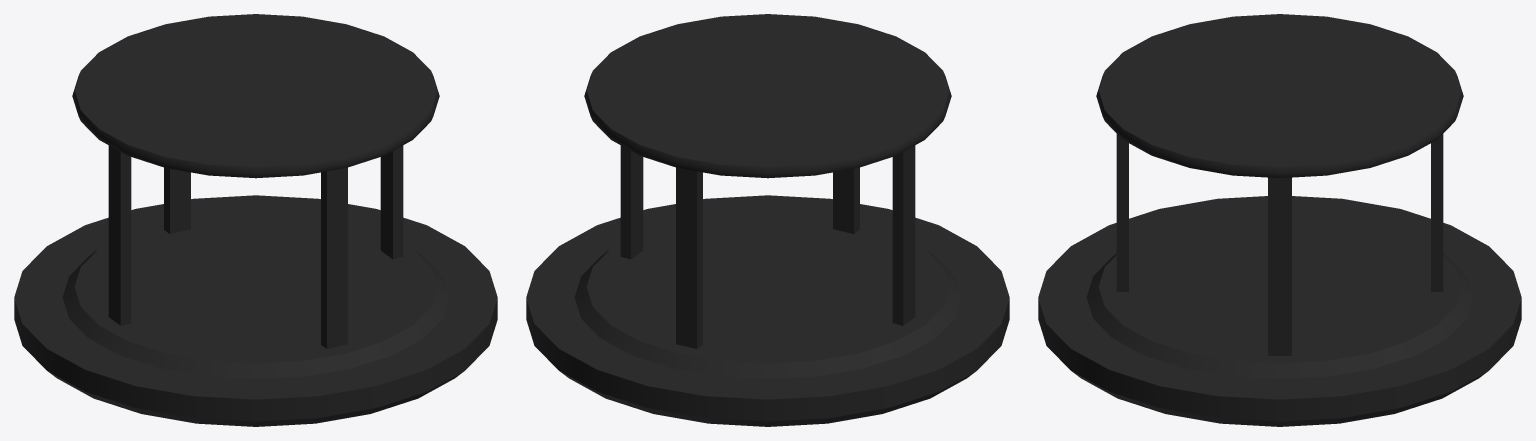
File: TLV_2_Fairing_1.obj
3 renders of one model, left to right at view 1: azimuth 30°, elevation 25°; view 2: azimuth 150°, elevation 25°; view 3: azimuth 270°, elevation 25°, orthographic.
Parts seen in each view (by area): view 1: TLV_2_Fairing_1; view 2: TLV_2_Fairing_1; view 3: TLV_2_Fairing_1.
Boxes of the visible parts, x1=… form: TLV_2_Fairing_1: x1=14, y1=14, x2=497, y2=426; TLV_2_Fairing_1: x1=526, y1=14, x2=1009, y2=426; TLV_2_Fairing_1: x1=1038, y1=14, x2=1521, y2=426.
Size of the model in its own units: 1.25 by 0.6845 by 1.25.
